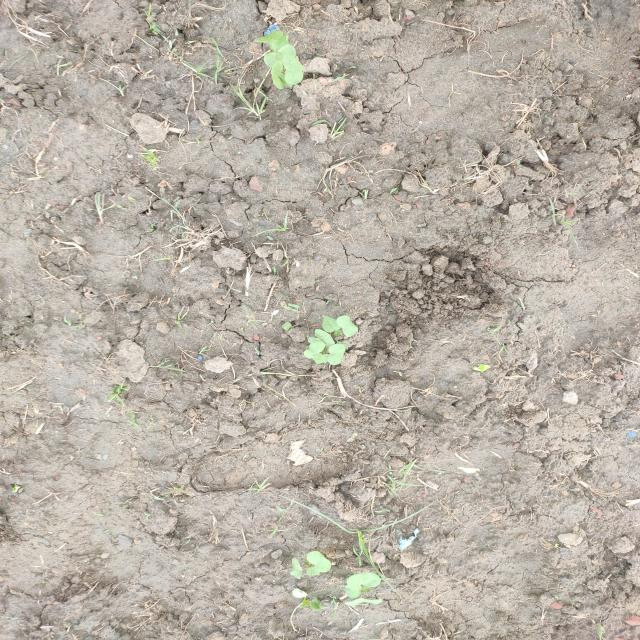seedling: (263, 44, 296, 67), (282, 54, 304, 85), (306, 551, 331, 573), (336, 315, 358, 337), (347, 573, 380, 587), (304, 340, 325, 359), (327, 343, 345, 365), (271, 61, 285, 89), (322, 314, 341, 333), (253, 31, 283, 43), (269, 34, 289, 52), (315, 329, 335, 346), (344, 598, 382, 606), (290, 557, 303, 579), (344, 585, 362, 599), (313, 353, 329, 365), (310, 598, 321, 611), (306, 567, 320, 576)
